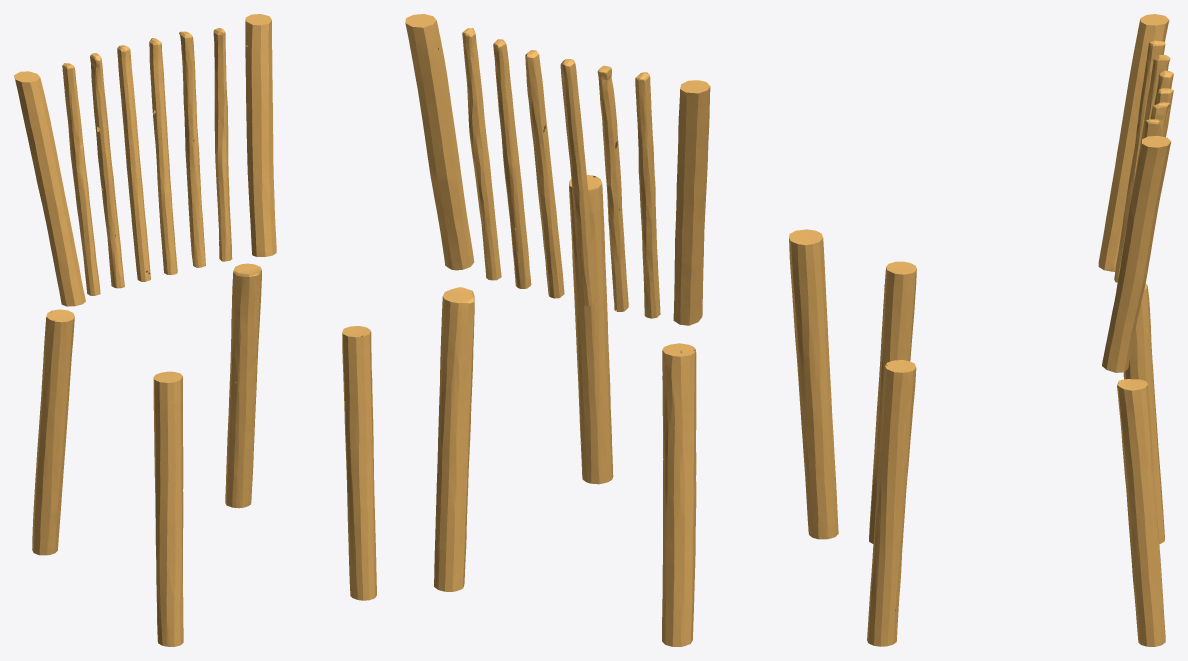
The model's file is method-b.glb.
3 views of the same model, side by side, from view 1: azimuth 30°, elevation 25°; view 2: azimuth 150°, elevation 25°; view 3: azimuth 270°, elevation 25° (orthographic). The views are drawn at different scales.
Parts seen in each view (by area): view 1: Volume B · part 15, Volume B · part 14, Volume B · part 12, Volume B · part 13, Volume B · part 11, Volume B · part 10, Volume B · part 8, Volume B · part 9, Volume B · part 5, Volume B · part 7, Volume B · part 6, Volume B · part 4; view 2: Volume B · part 14, Volume B · part 12, Volume B · part 13, Volume B · part 15, Volume B · part 11, Volume B · part 10, Volume B · part 9, Volume B · part 8, Volume B · part 4, Volume B · part 5, Volume B · part 7, Volume B · part 6; view 3: Volume B · part 15, Volume B · part 13, Volume B · part 11, Volume B · part 10, Volume B · part 14, Volume B · part 12, Volume B · part 7, Volume B · part 6.
Boxes of the visible parts, box(x1,y1,x2,y2) form: Volume B · part 15: box(342, 326, 376, 600); Volume B · part 14: box(153, 371, 183, 646); Volume B · part 12: box(32, 309, 74, 555); Volume B · part 13: box(225, 263, 261, 508); Volume B · part 11: box(245, 14, 276, 256); Volume B · part 10: box(14, 71, 85, 306); Volume B · part 8: box(117, 45, 150, 281); Volume B · part 9: box(149, 38, 177, 274); Volume B · part 5: box(179, 31, 205, 267); Volume B · part 7: box(62, 63, 100, 295); Volume B · part 6: box(90, 53, 124, 288); Volume B · part 4: box(213, 28, 232, 261); Volume B · part 14: box(789, 229, 838, 539); Volume B · part 12: box(662, 343, 696, 646); Volume B · part 13: box(434, 287, 474, 591); Volume B · part 15: box(569, 175, 613, 484); Volume B · part 11: box(405, 14, 474, 270); Volume B · part 10: box(673, 80, 710, 325); Volume B · part 9: box(525, 50, 564, 298); Volume B · part 8: box(560, 59, 595, 306); Volume B · part 4: box(462, 28, 501, 280); Volume B · part 5: box(493, 39, 531, 288); Volume B · part 7: box(635, 72, 660, 318); Volume B · part 6: box(597, 65, 628, 311); Volume B · part 15: box(867, 360, 916, 646); Volume B · part 13: box(1117, 379, 1165, 646); Volume B · part 11: box(1102, 135, 1171, 372); Volume B · part 10: box(1098, 14, 1169, 271); Volume B · part 14: box(869, 261, 916, 543); Volume B · part 12: box(1123, 283, 1164, 544); Volume B · part 7: box(1114, 40, 1165, 282); Volume B · part 6: box(1116, 55, 1170, 290).
Size of the model in its own units: 0.4915 by 0.8794 by 0.4767.
